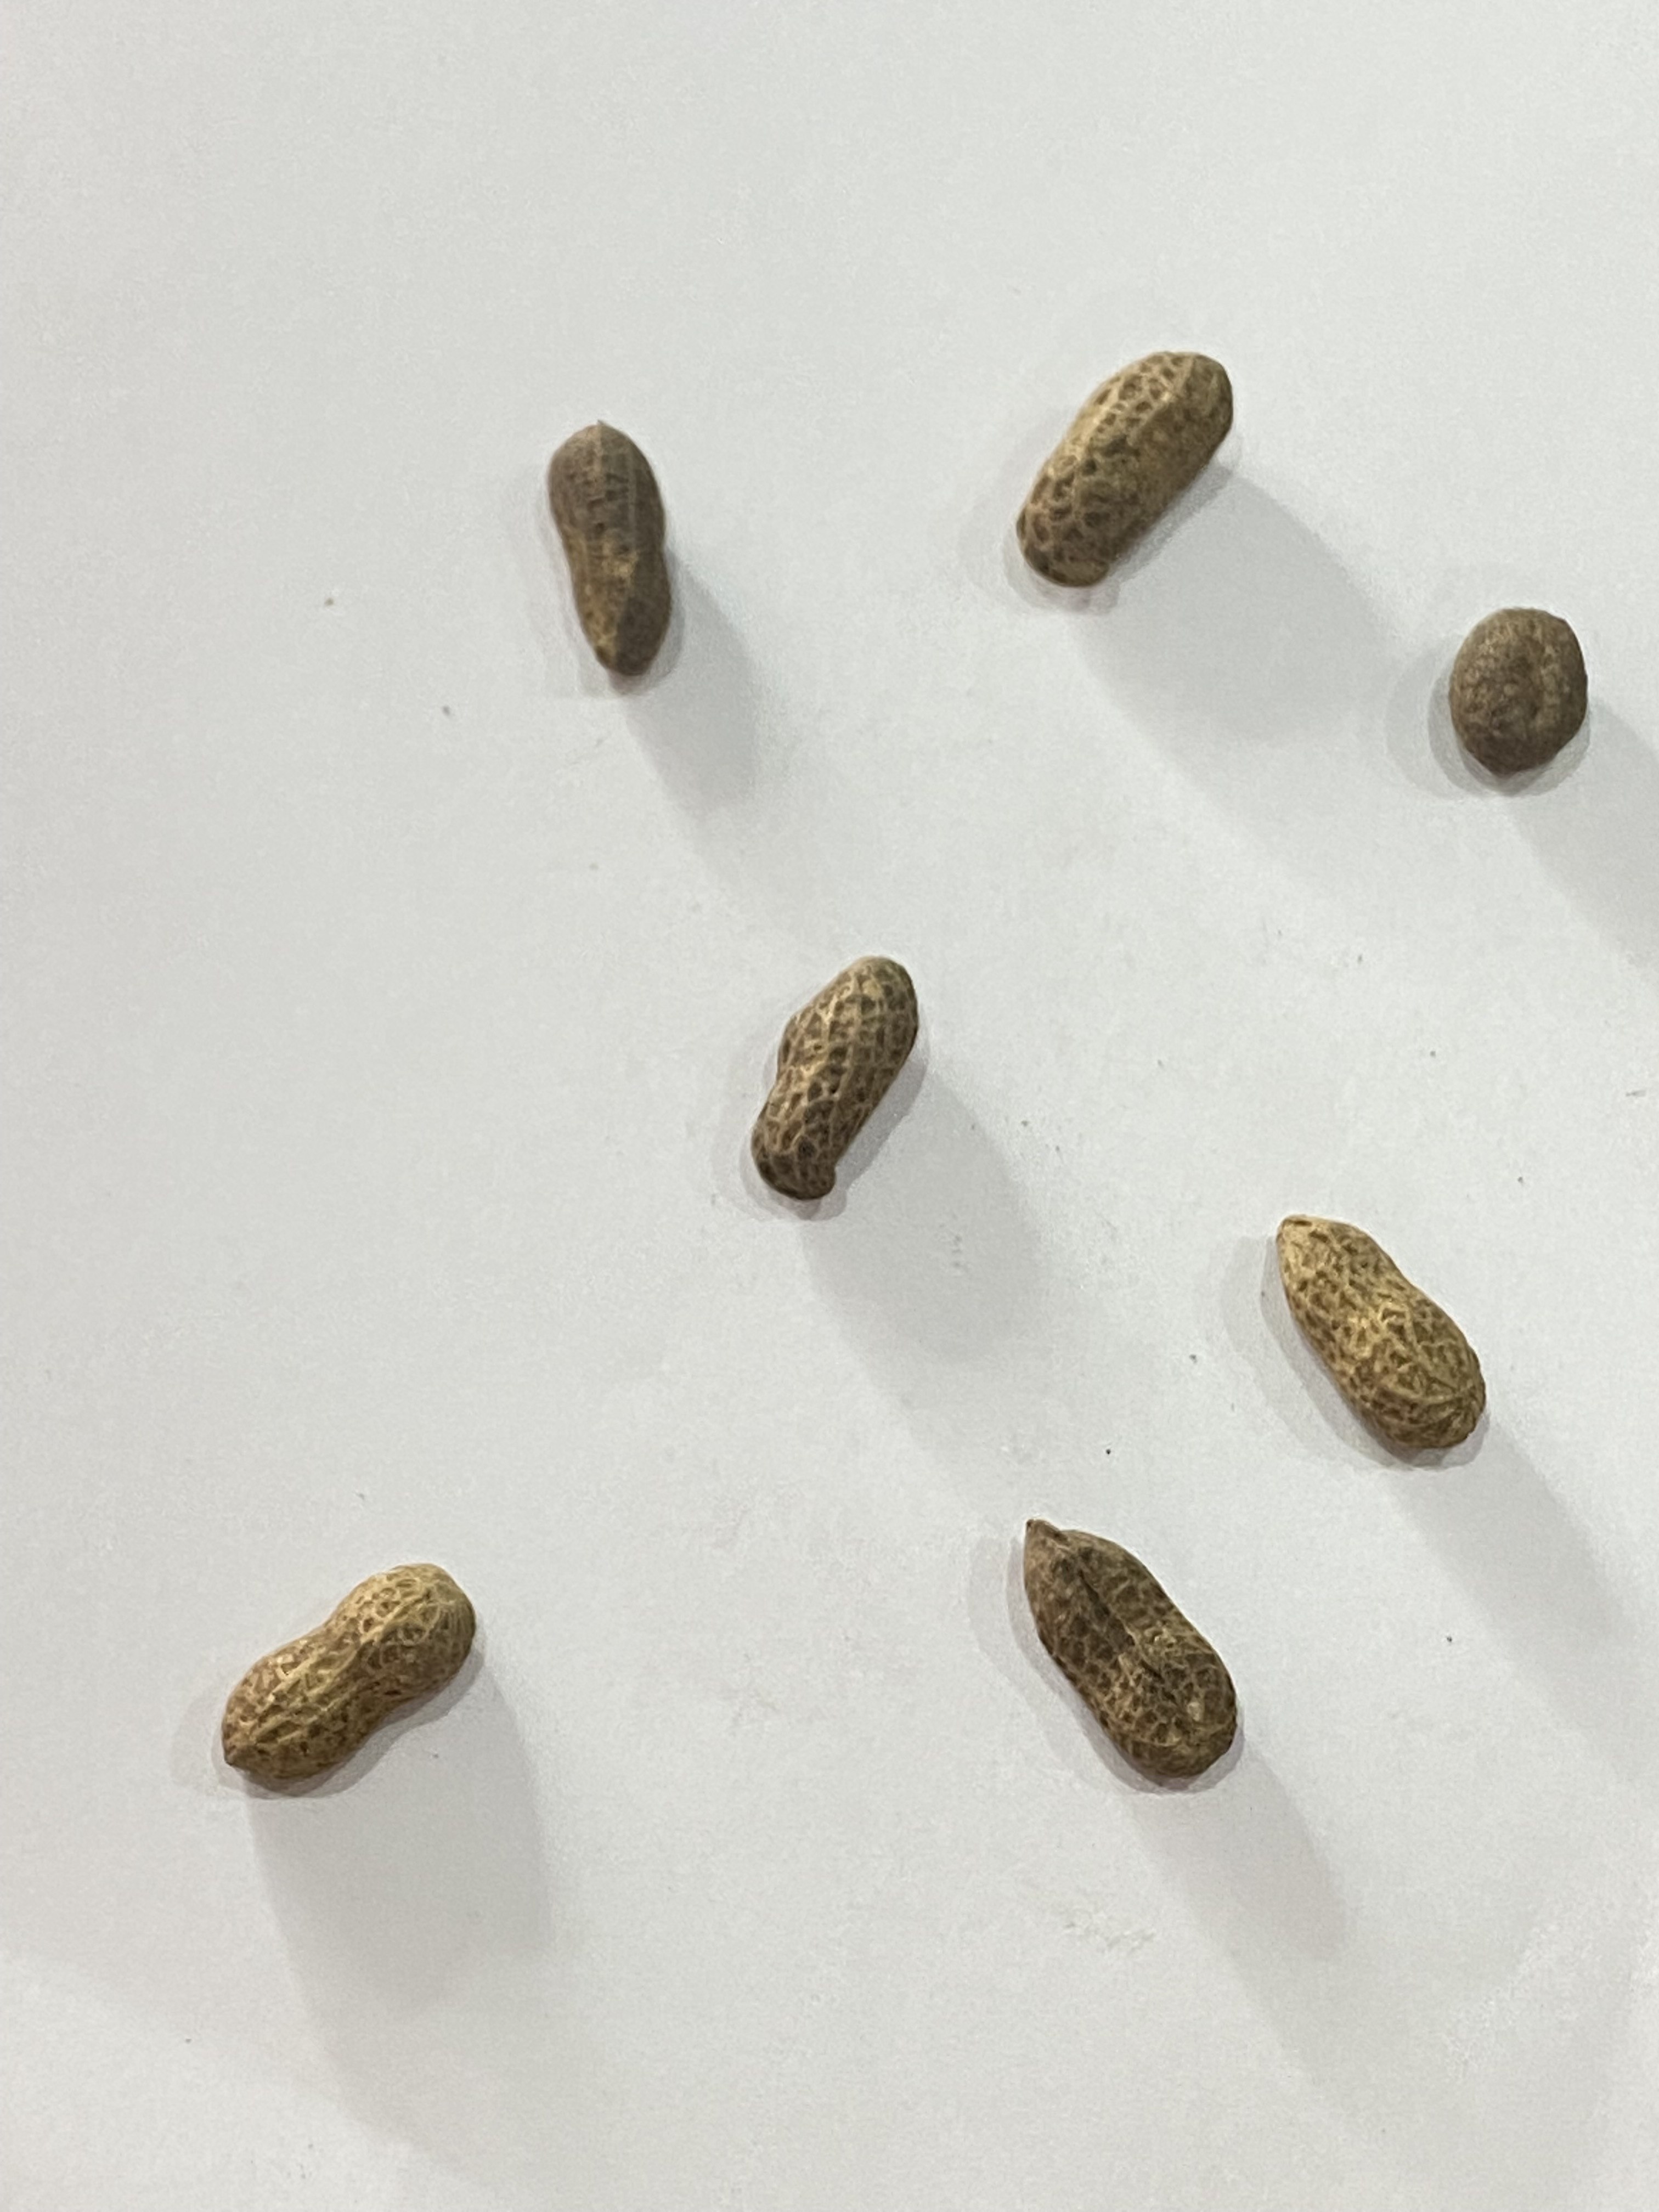kacang1: (1424, 571, 1603, 791)
kacang2: (173, 1534, 558, 1803), (978, 1500, 1267, 1817), (704, 911, 974, 1247), (1249, 1181, 1513, 1477), (1011, 315, 1270, 594), (532, 415, 685, 679)
